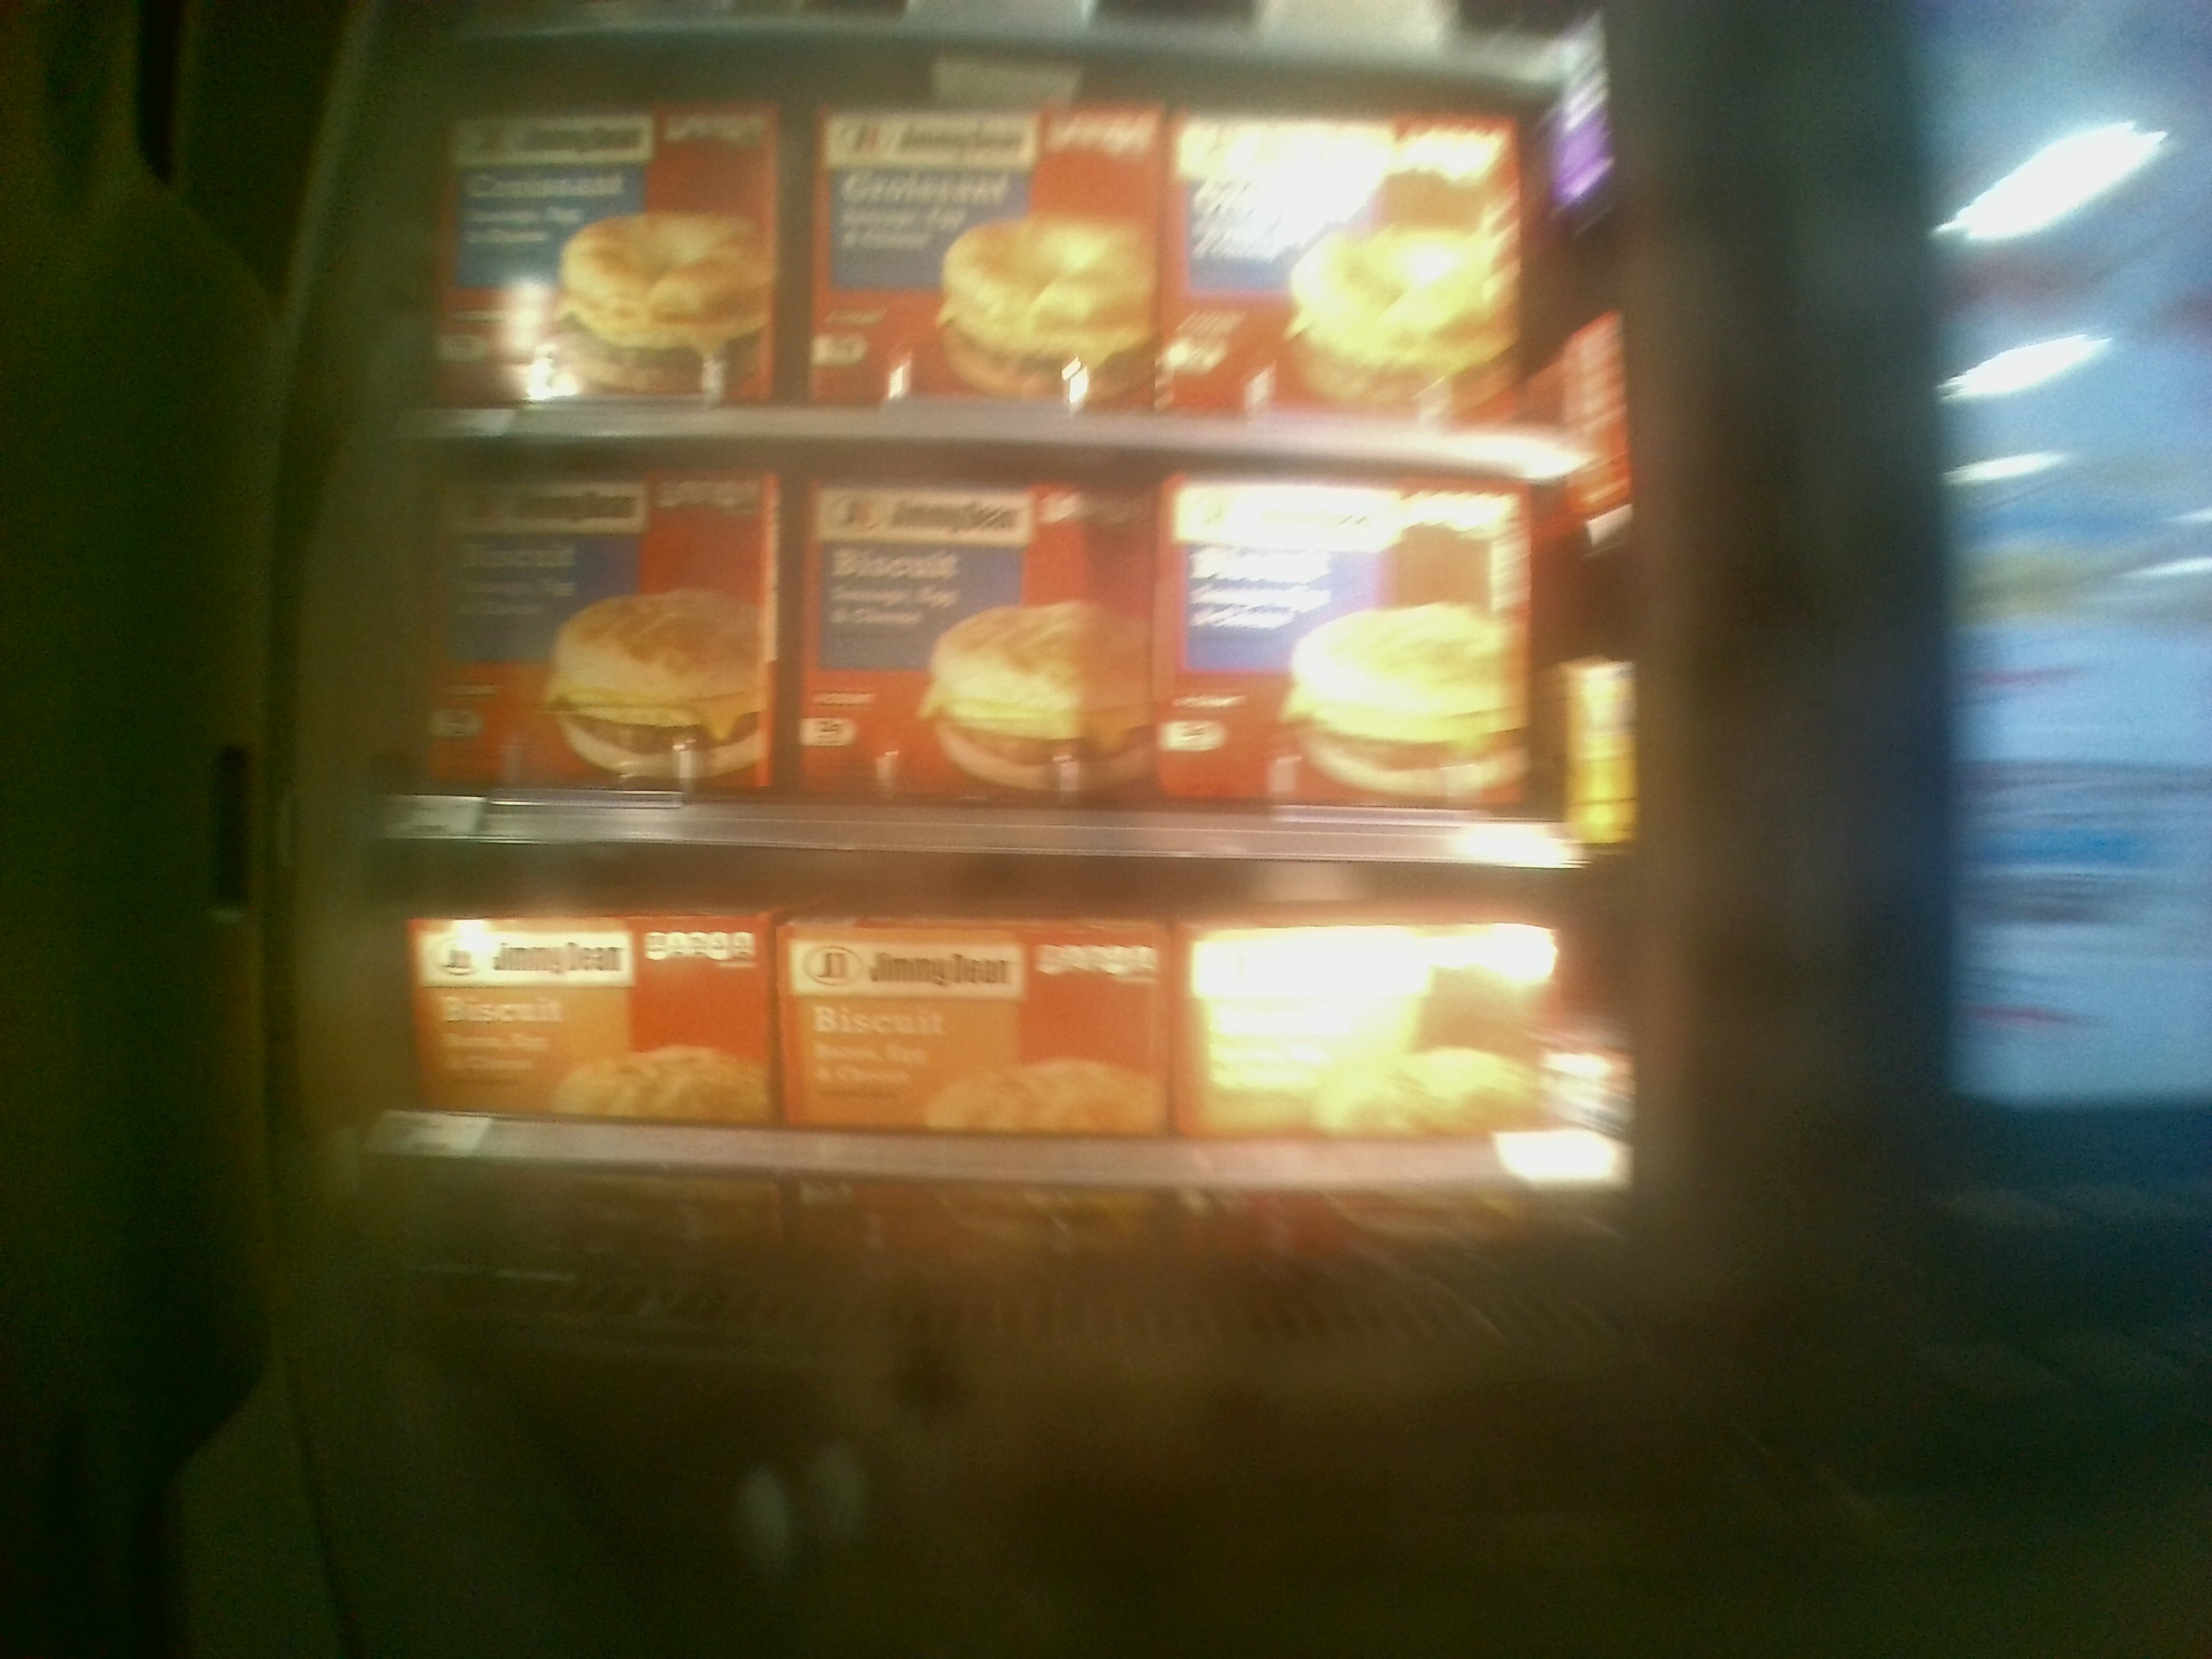shelf: (387, 836, 1630, 1324), (376, 430, 1599, 859)
